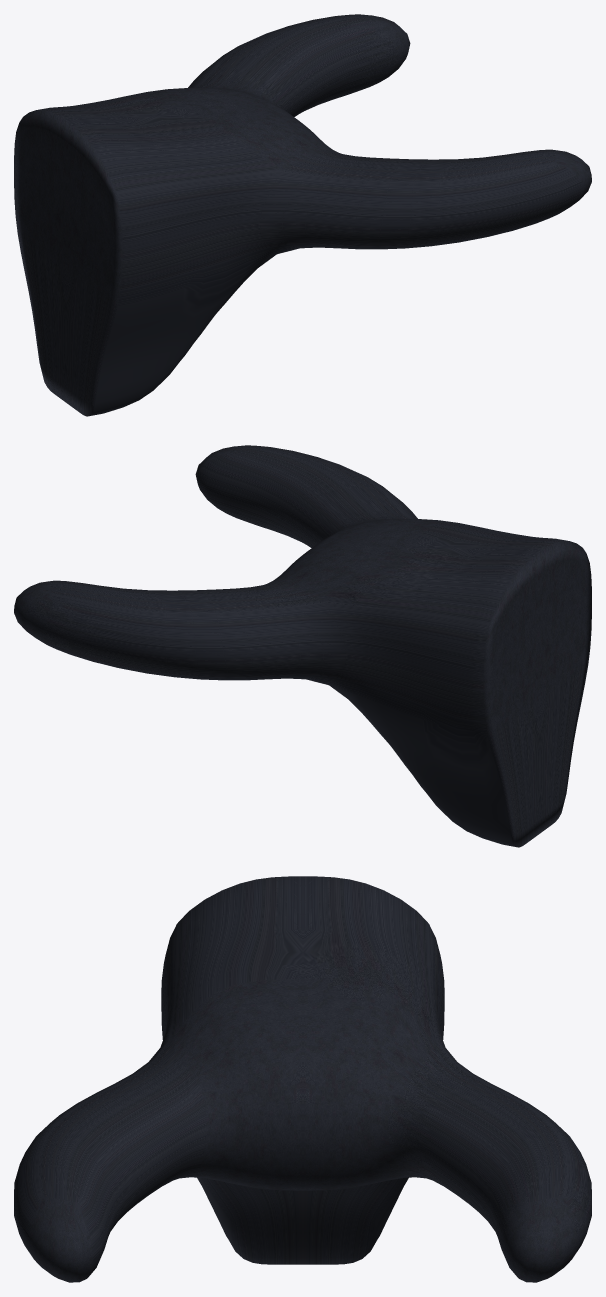
The model's file is Guitar Wall Stand.fbx.
3 views of the same model, one above another, from view 1: azimuth 30°, elevation 25°; view 2: azimuth 150°, elevation 25°; view 3: azimuth 270°, elevation 25° (orthographic). The views are drawn at different scales.
Visible parts, largest first — view 1: Cube; view 2: Cube; view 3: Cube.
Part boxes in pixels (<box>): Cube: <box>14,14,591,416</box>; Cube: <box>14,445,591,847</box>; Cube: <box>14,876,591,1282</box>.
Bounding box in the file's own units: 208 × 130 × 187.
Materials: 1 (1 with a texture image).
